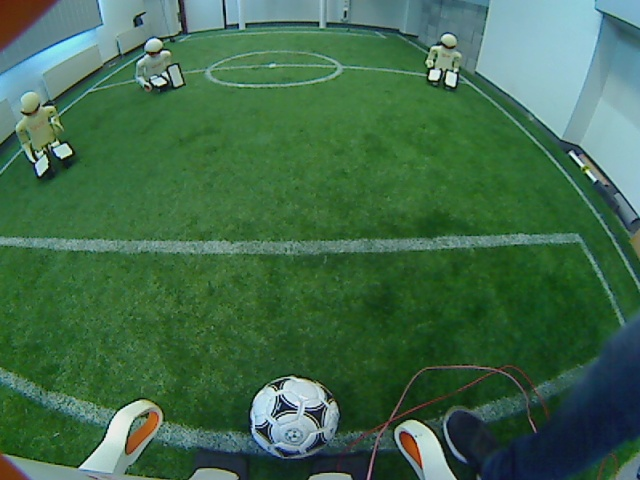ball: (248, 373, 340, 461)
robot: (15, 90, 79, 183), (132, 36, 187, 96), (422, 34, 464, 95)
